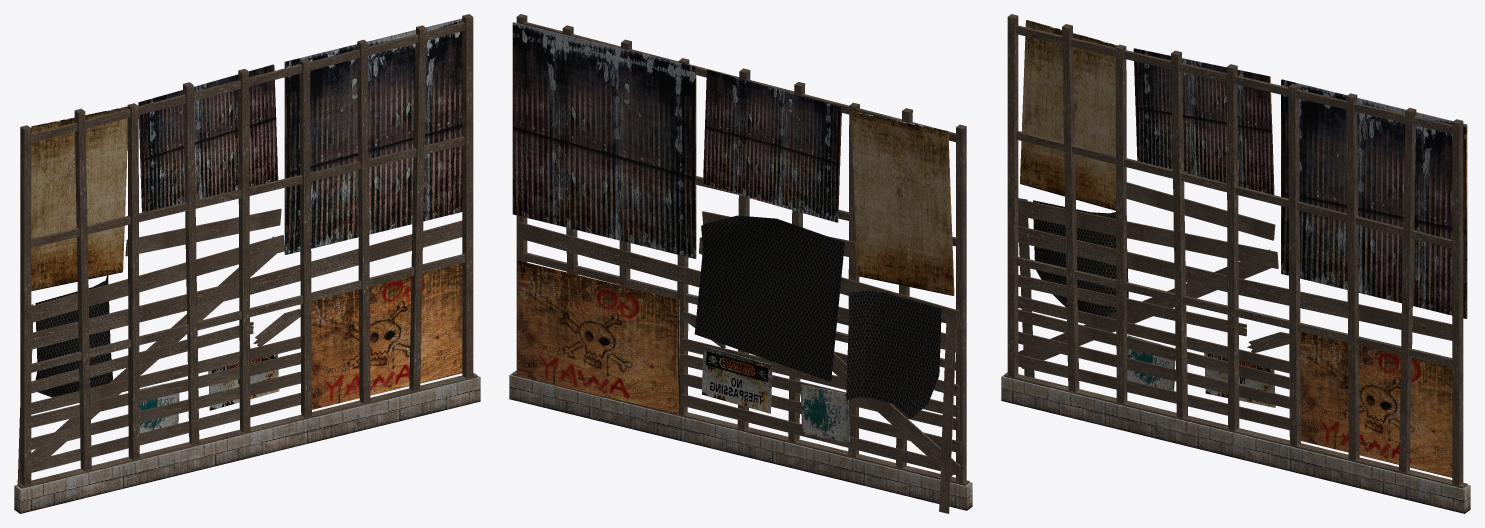
The model's file is tunnel_barrier_var1.fbx.
The picture shows the model from 3 angles, left to right: view 1: azimuth 30°, elevation 25°; view 2: azimuth 150°, elevation 25°; view 3: azimuth 330°, elevation 25°; orthographic projection.
Visible parts, largest first — view 1: mesh_3, mesh_4, mesh_2, mesh_5, mesh_0, mesh_26, mesh_6, mesh_8, mesh_16, mesh_9, mesh_13, mesh_7 (+19 smaller); view 2: mesh_3, mesh_31, mesh_4, mesh_2, mesh_5, mesh_0, mesh_32, mesh_6, mesh_29, mesh_26, mesh_20, mesh_30 (+14 smaller); view 3: mesh_3, mesh_4, mesh_5, mesh_2, mesh_0, mesh_26, mesh_8, mesh_6, mesh_14, mesh_9, mesh_7, mesh_13 (+20 smaller).
Part boxes in pixels (box(x1,y1,x2,y2)): mesh_3: box(284, 18, 462, 254); mesh_4: box(311, 263, 462, 409); mesh_2: box(31, 106, 127, 291); mesh_5: box(138, 64, 278, 212); mesh_0: box(14, 373, 480, 513); mesh_26: box(31, 220, 462, 349); mesh_6: box(20, 125, 31, 486); mesh_8: box(462, 14, 473, 378); mesh_16: box(409, 25, 426, 391); mesh_9: box(357, 40, 370, 403); mesh_13: box(74, 108, 91, 471); mesh_7: box(238, 69, 250, 432); mesh_3: box(512, 22, 696, 258); mesh_31: box(694, 215, 844, 381); mesh_4: box(517, 260, 679, 414); mesh_2: box(851, 111, 954, 295); mesh_5: box(703, 69, 841, 222); mesh_0: box(509, 371, 972, 510); mesh_32: box(846, 290, 941, 419); mesh_6: box(956, 124, 966, 483); mesh_29: box(701, 346, 772, 413); mesh_26: box(518, 222, 956, 352); mesh_20: box(681, 394, 960, 475); mesh_30: box(800, 384, 849, 443); mesh_3: box(1281, 79, 1467, 318); mesh_4: box(1300, 331, 1452, 477); mesh_5: box(1133, 48, 1274, 194); mesh_2: box(1020, 20, 1117, 210); mesh_0: box(1001, 372, 1470, 513); mesh_26: box(1018, 226, 1452, 340); mesh_8: box(1452, 119, 1463, 485); mesh_6: box(1007, 14, 1018, 377); mesh_14: box(1171, 50, 1187, 418); mesh_9: box(1346, 93, 1359, 460); mesh_7: box(1226, 64, 1239, 431); mesh_13: box(1062, 24, 1079, 391).
Bounding box in the file's own units: 1000 × 800 × 109.
2 materials, 2 textured.
